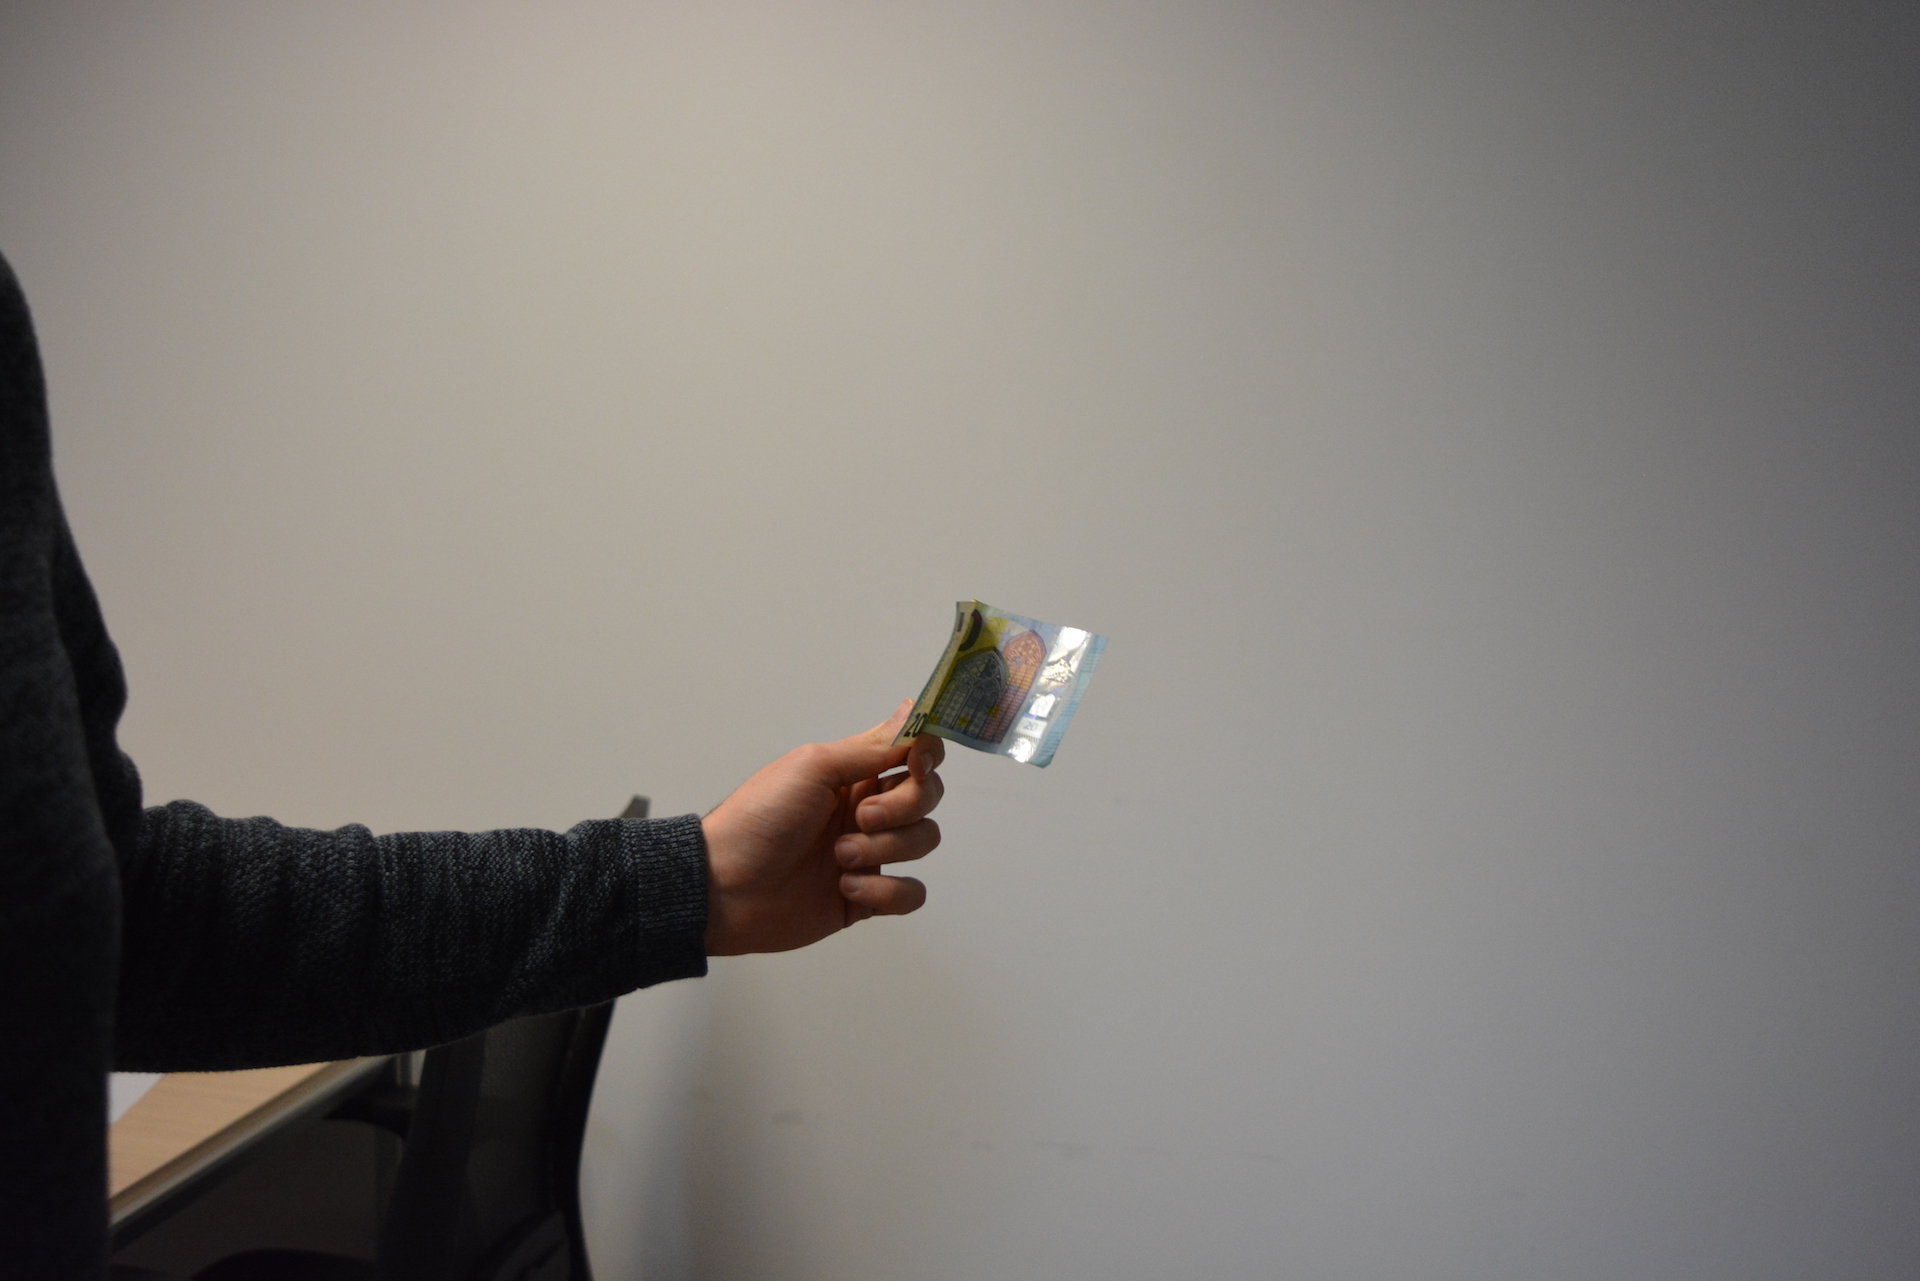billete: (889, 598, 1117, 771)
